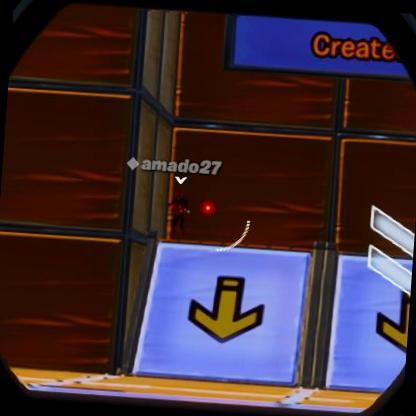person: (158, 191, 192, 253)
